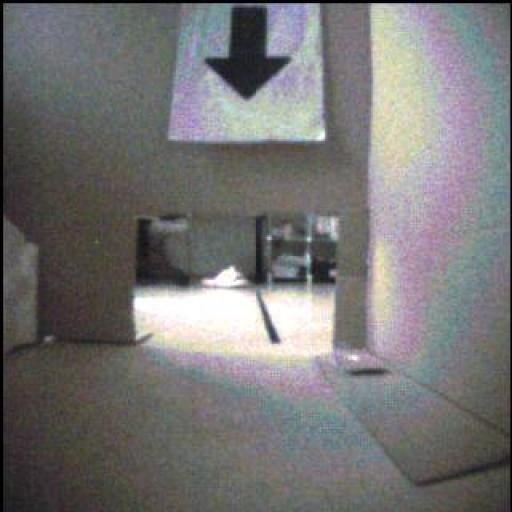arrow: (206, 8, 292, 101)
